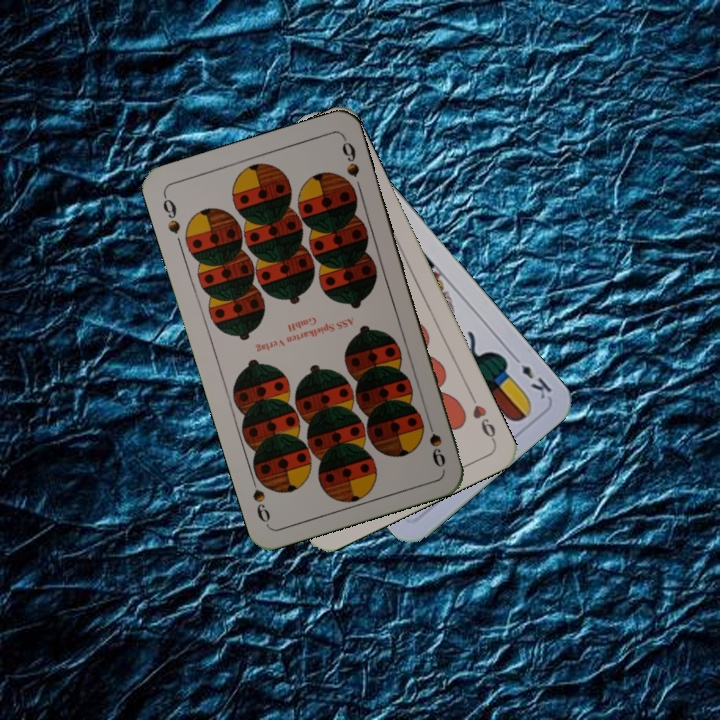EK: (508, 350, 554, 402)
H9: (466, 390, 499, 445)
S9: (422, 412, 448, 470), (158, 190, 183, 236)
